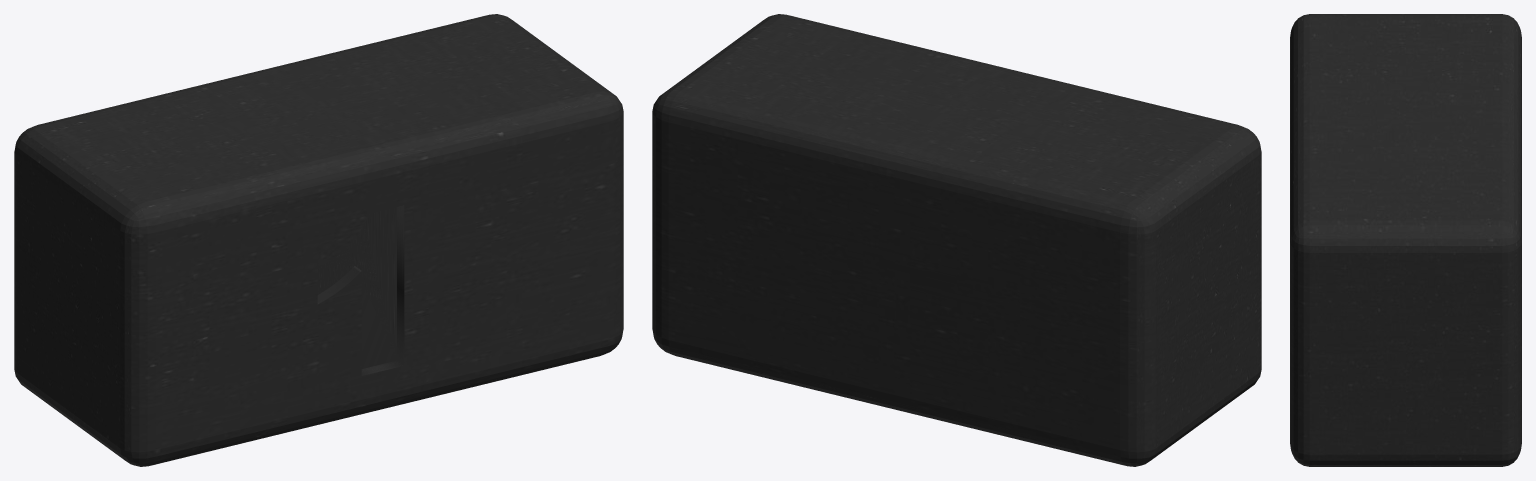
The model's file is btn_1.glb.
The picture shows the model from 3 angles, left to right: view 1: azimuth 30°, elevation 25°; view 2: azimuth 150°, elevation 25°; view 3: azimuth 270°, elevation 25°; orthographic projection. The views are drawn at different scales.
Parts seen in each view (by area): view 1: Cube; view 2: Cube; view 3: Cube.
Part boxes in pixels (x1,y1,x2,y2): Cube: [14, 14, 623, 466]; Cube: [652, 14, 1261, 466]; Cube: [1290, 14, 1521, 466].
Bounding box in the file's own units: 3.42 × 1.71 × 1.48.
Materials: 2 (2 with a texture image).
